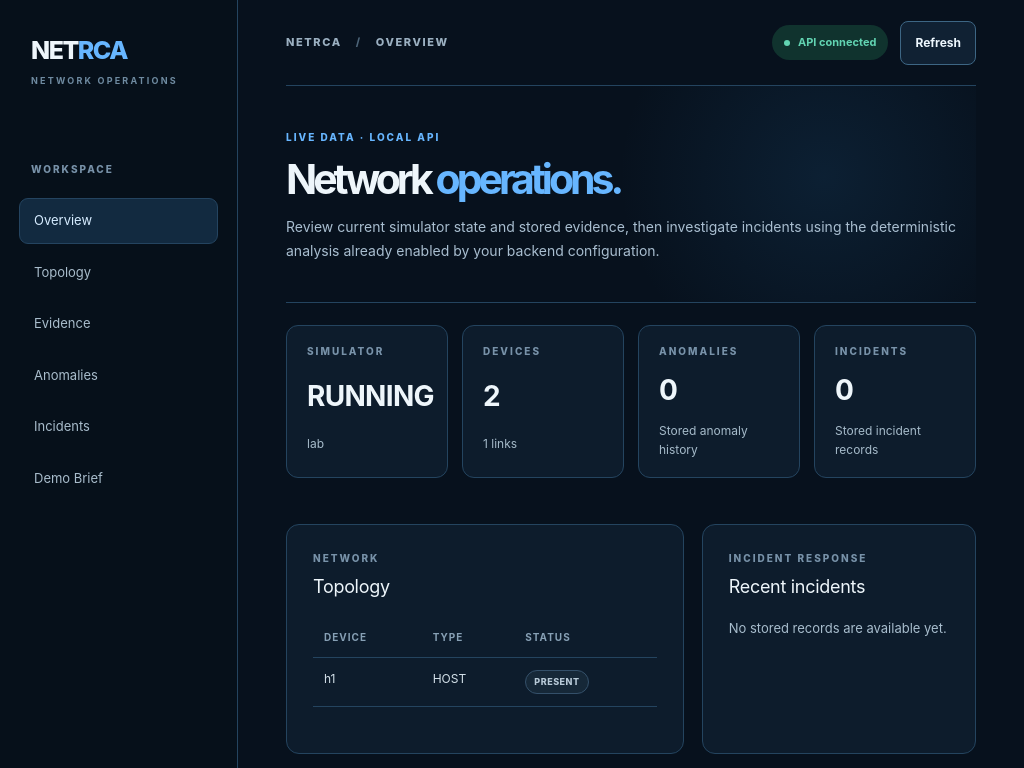
loads real API-backed overview and presents empty evidence honestly
This screenshot has width=1024, height=768.
Expected: the text "API connected" is shown, [772,25,888,60]
Expected: the text "RUNNING" is shown, [307,375,434,424]
Click the button "Evidence". click: (118, 324)
box: [19,301,218,346]
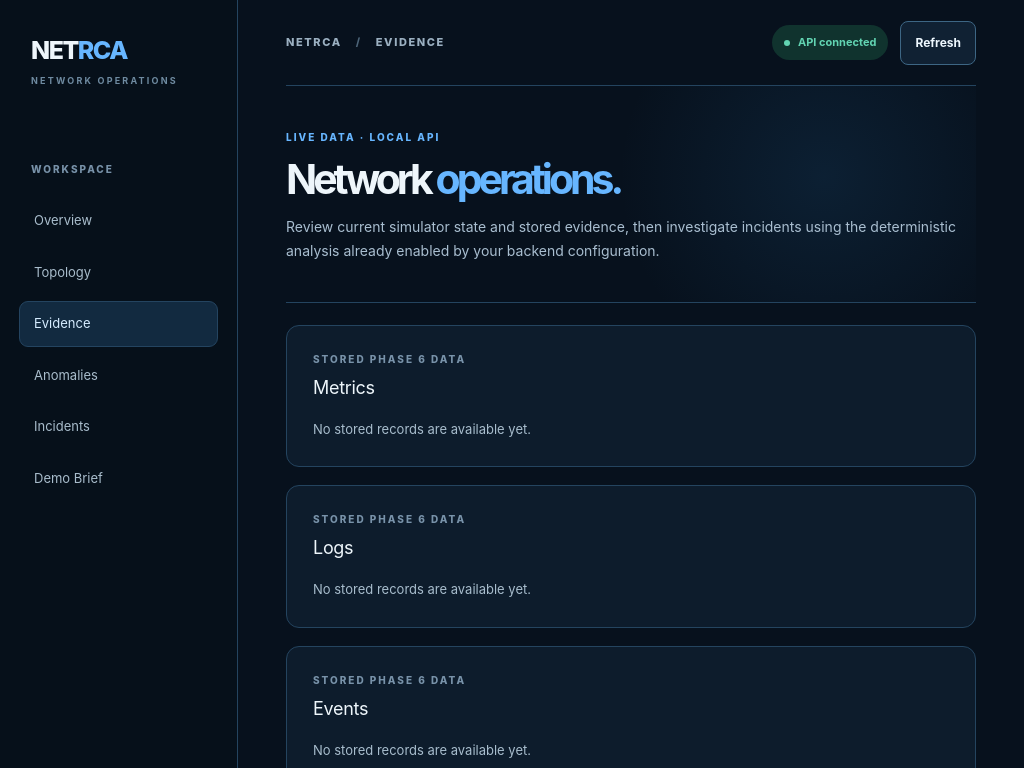
Expected: the text "No stored records are available yet." is shown 3 times, [313,421,531,437]; [313,581,531,597]; [313,742,531,758]
